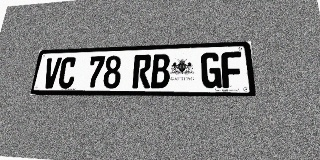7: (85, 56, 105, 88)
8: (102, 55, 122, 88)
B: (151, 54, 170, 88)
C: (57, 57, 77, 88)
F: (221, 51, 244, 88)
G: (201, 52, 222, 88)
R: (132, 54, 152, 88)
V: (42, 57, 62, 88)
